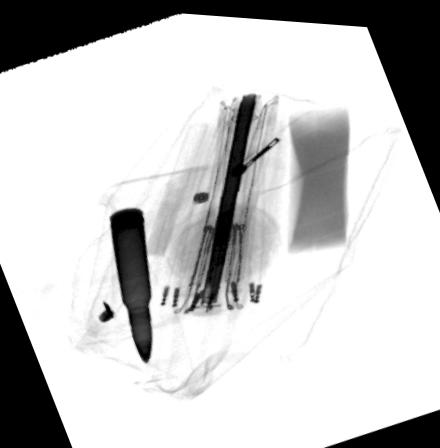Bullet: (106, 205, 153, 364)
